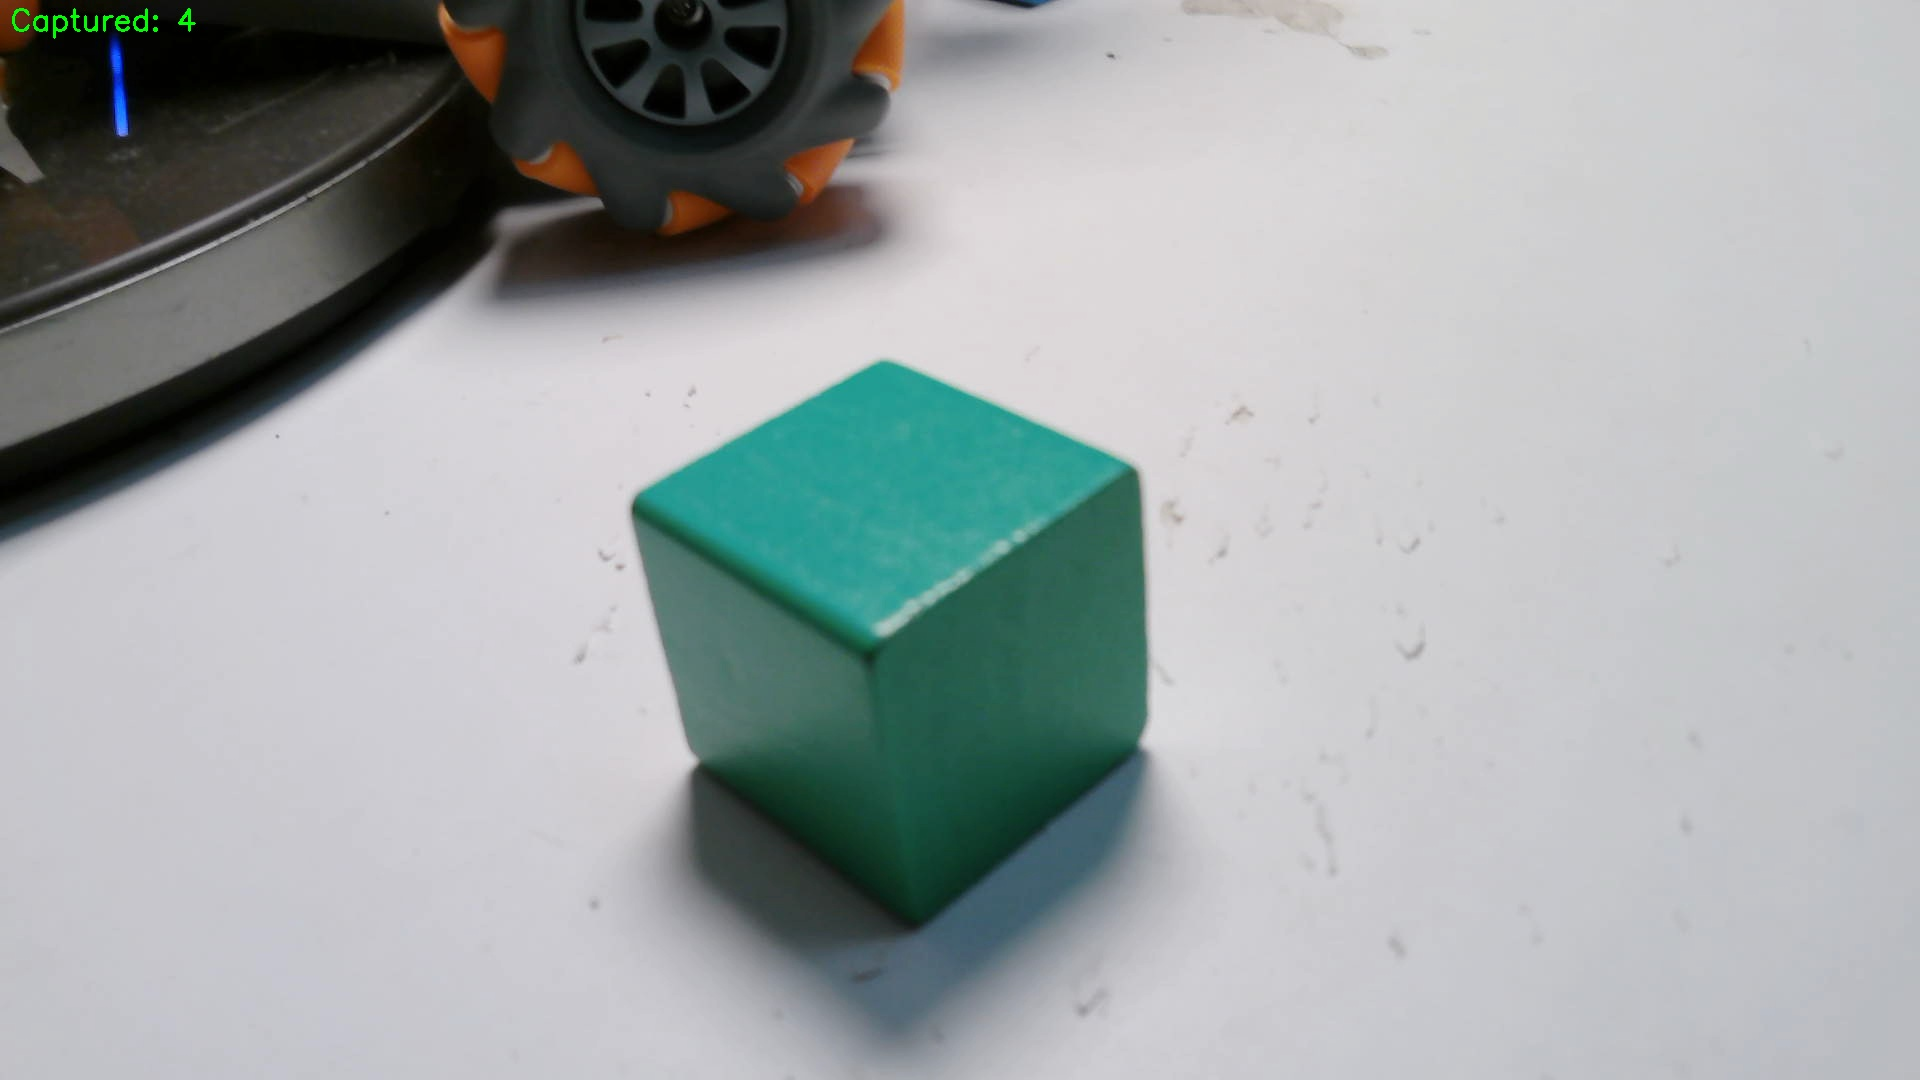green: (641, 367, 1145, 927)
